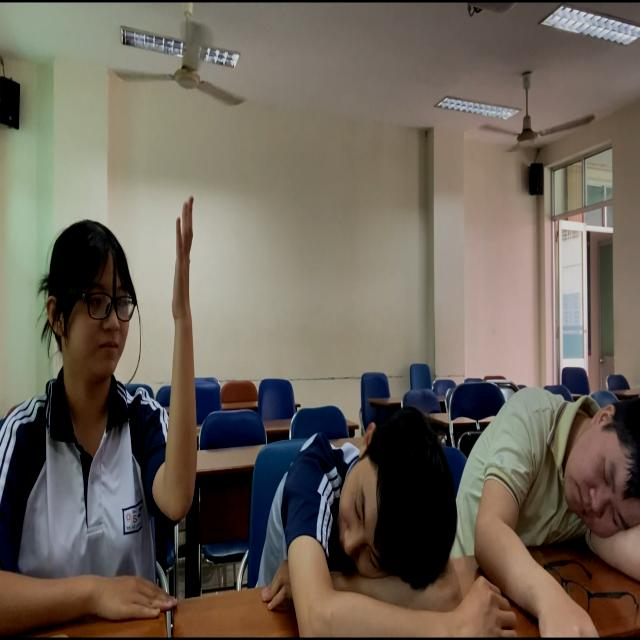raise_hand: (1, 186, 204, 612)
sleep: (261, 414, 477, 640), (448, 382, 640, 611)
